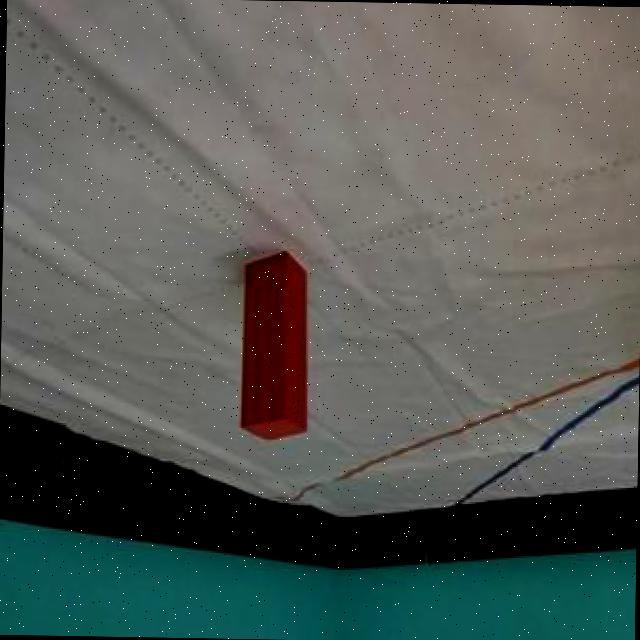redbox: (240, 248, 310, 439)
